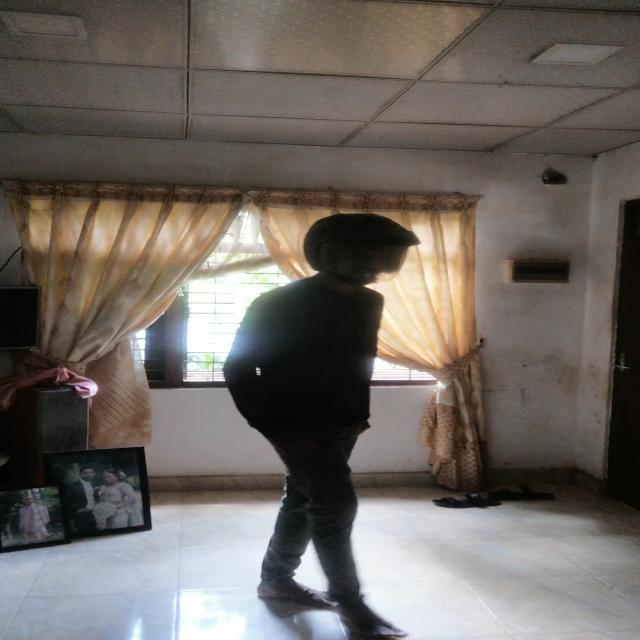Helmet_Wearer: (247, 207, 424, 294)
Person: (216, 194, 467, 640)
